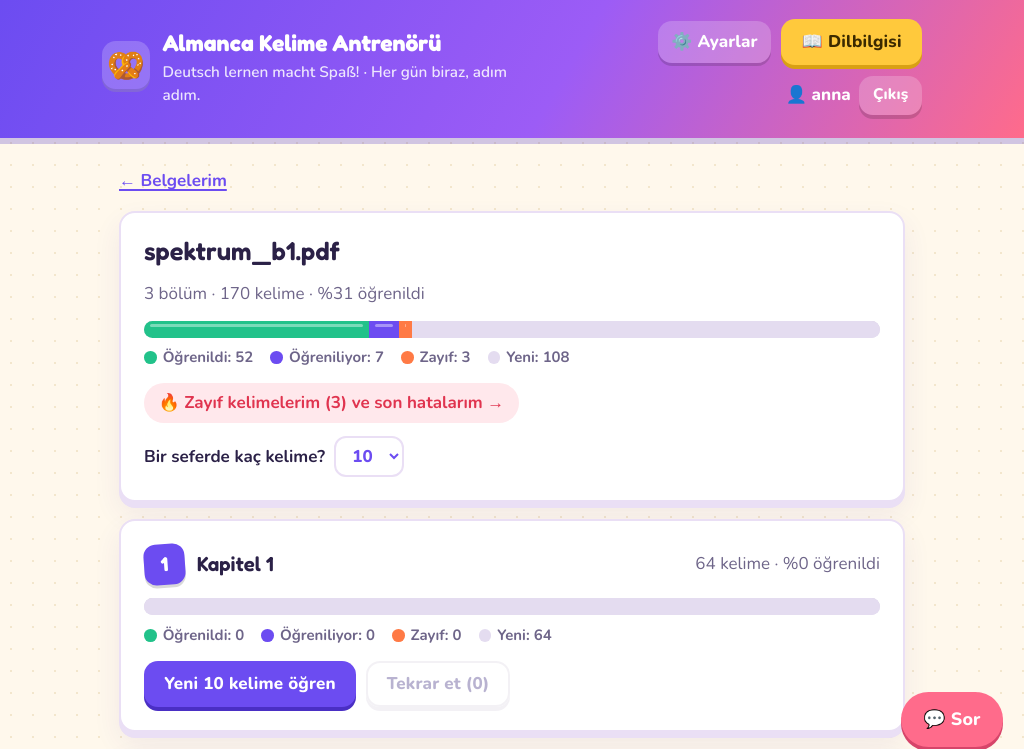
it: DocumentPage › starts a new batch with the chosen size and opens the learning screen
This screenshot has width=1024, height=749.
Select "5" in the dropdown labelled "Bir seferde kaç kelime?" at (369, 457), box [334,436,404,477]
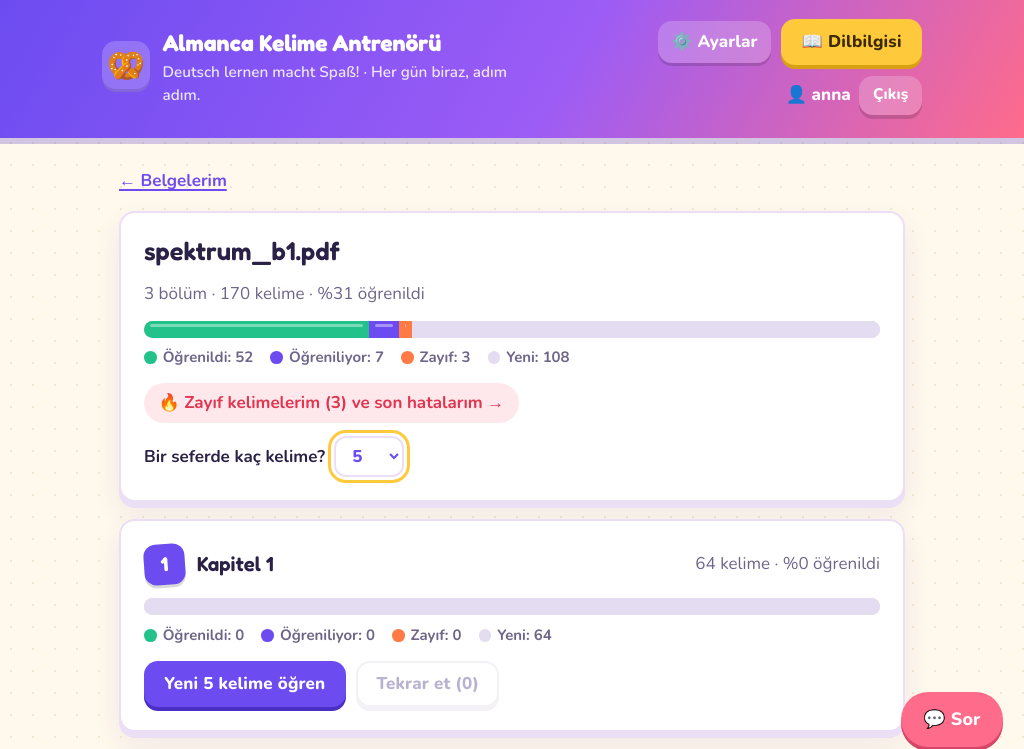
Click the button "Yeni 5 kelime öğren" at (245, 684), box [144,661,346,707]
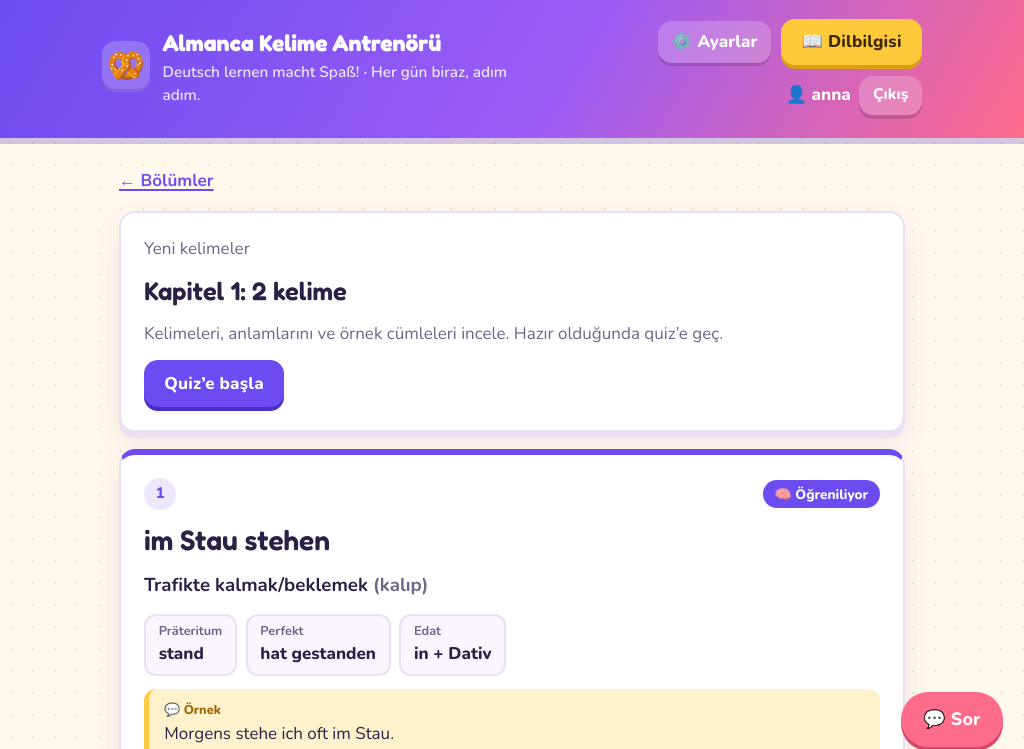
Expected: the heading "Kapitel 1: 2 kelime" is shown, [144,275,347,306]
